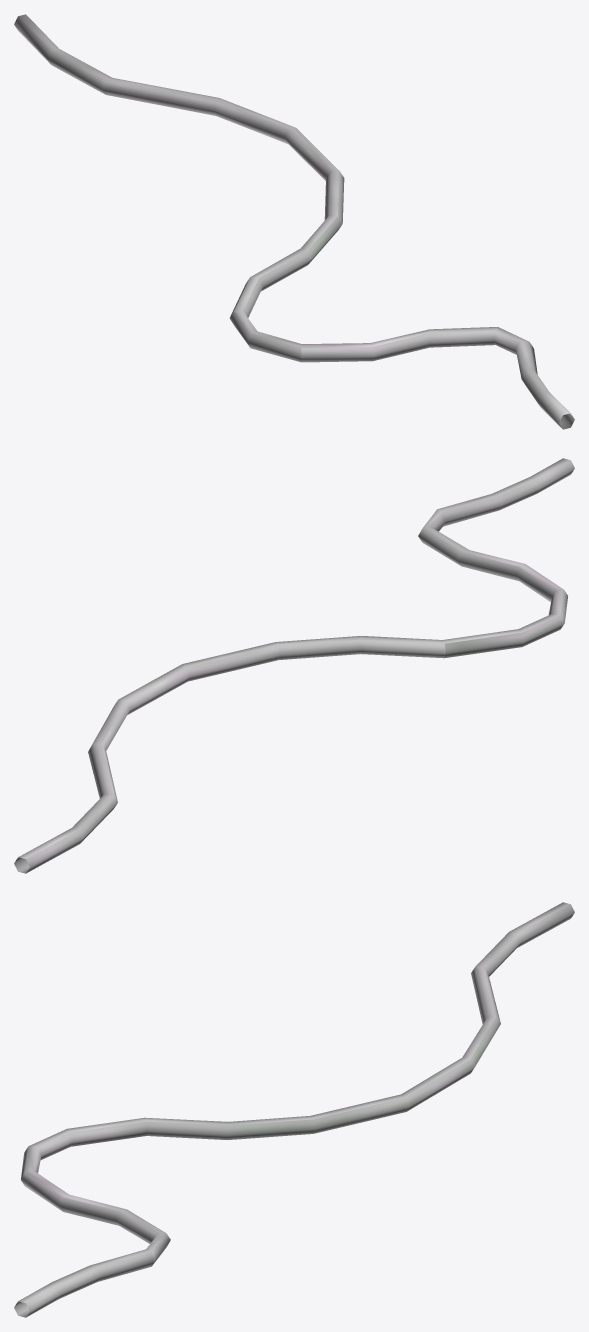
File: cable_more_wavy_small.dae
3 renders of one model, top to bottom at view 1: azimuth 30°, elevation 25°; view 2: azimuth 150°, elevation 25°; view 3: azimuth 330°, elevation 25°, orthographic.
Parts seen in each view (by area): view 1: Mesh; view 2: Mesh; view 3: Mesh.
Part boxes in pixels (x1,y1,x2,y2): Mesh: [14, 14, 574, 429]; Mesh: [14, 458, 574, 873]; Mesh: [14, 902, 574, 1317].
Bounding box in the file's own units: 0.2668 × 0.016 × 1.
